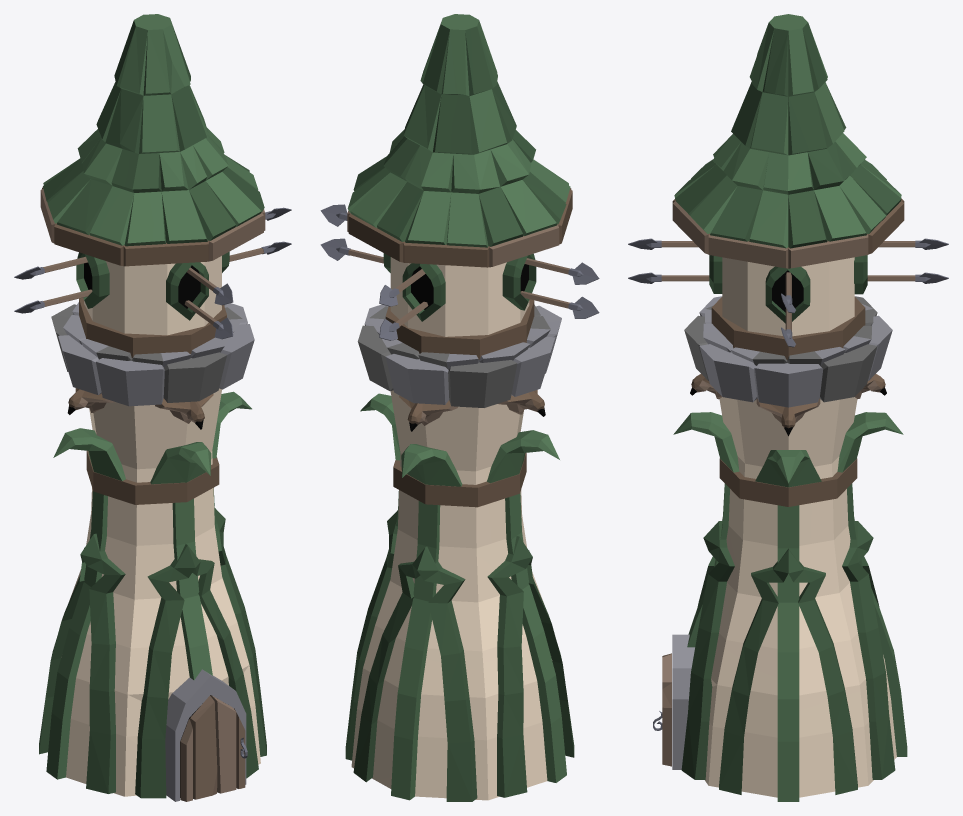
The model's file is Archer_Tower_lv2.gltf.
3 views of the same model, side by side, from view 1: azimuth 30°, elevation 25°; view 2: azimuth 150°, elevation 25°; view 3: azimuth 270°, elevation 25° (orthographic).
Parts seen in each view (by area): view 1: Archer_Tower_LVL_2; view 2: Archer_Tower_LVL_2; view 3: Archer_Tower_LVL_2.
Boxes of the visible parts, x1,y1,x2,y2 form: Archer_Tower_LVL_2: [14, 14, 291, 801]; Archer_Tower_LVL_2: [320, 14, 599, 801]; Archer_Tower_LVL_2: [628, 14, 948, 801].
Bounding box in the file's own units: 2.98 × 7.47 × 2.98.
1 material, 1 textured.
